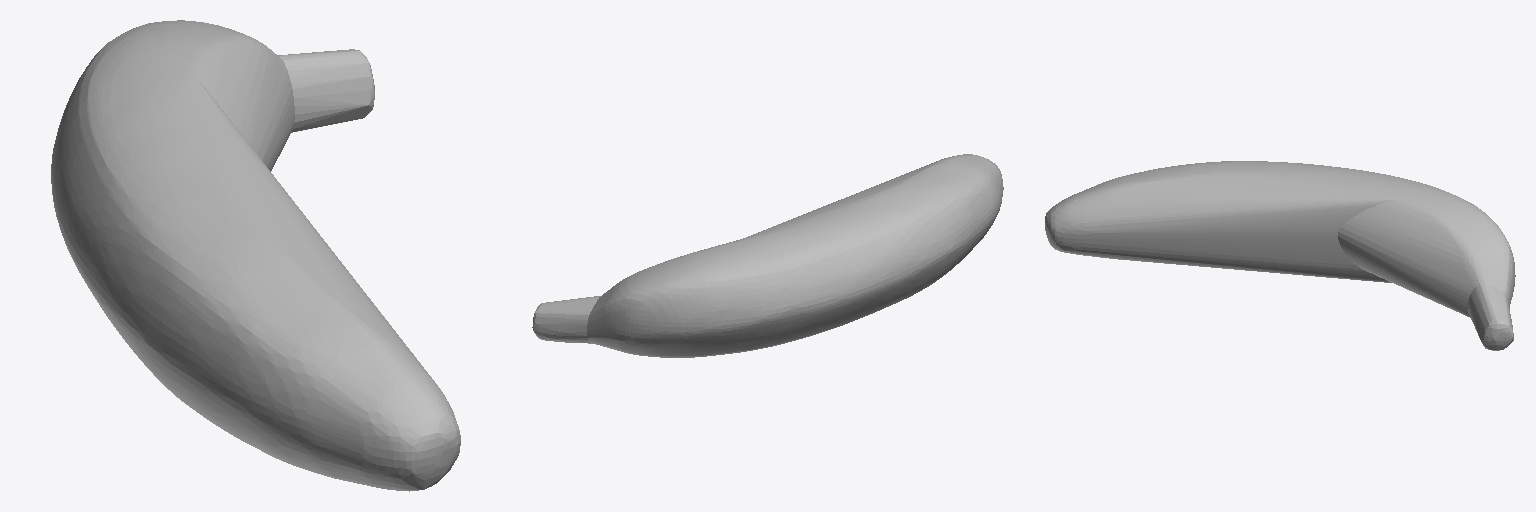
URDF robot description (root):
<robot name="root"><link name="body"><visual>
      <origin xyz="0 0 0" rpy="0 0 0" />
      <geometry>
        <mesh filename="coacd_convex_piece_0.obj" scale="1.0000E+00 1.0000E+00 1.0000E+00" />
      </geometry>
      <material name="">
        <color rgba="7.50E-01 7.50E-01 7.50E-01 1" />
      </material>
    </visual>
    <collision>
      <origin xyz="0 0 0" rpy="0 0 0" />
      <geometry>
        <mesh filename="coacd_convex_piece_0.obj" scale="1.0000E+00 1.0000E+00 1.0000E+00" />
      </geometry>
    </collision>
  <visual>
      <origin xyz="0 0 0" rpy="0 0 0" />
      <geometry>
        <mesh filename="coacd_convex_piece_1.obj" scale="1.0000E+00 1.0000E+00 1.0000E+00" />
      </geometry>
      <material name="">
        <color rgba="7.50E-01 7.50E-01 7.50E-01 1" />
      </material>
    </visual>
    <collision>
      <origin xyz="0 0 0" rpy="0 0 0" />
      <geometry>
        <mesh filename="coacd_convex_piece_1.obj" scale="1.0000E+00 1.0000E+00 1.0000E+00" />
      </geometry>
    </collision>
  <visual>
      <origin xyz="0 0 0" rpy="0 0 0" />
      <geometry>
        <mesh filename="coacd_convex_piece_2.obj" scale="1.0000E+00 1.0000E+00 1.0000E+00" />
      </geometry>
      <material name="">
        <color rgba="7.50E-01 7.50E-01 7.50E-01 1" />
      </material>
    </visual>
    <collision>
      <origin xyz="0 0 0" rpy="0 0 0" />
      <geometry>
        <mesh filename="coacd_convex_piece_2.obj" scale="1.0000E+00 1.0000E+00 1.0000E+00" />
      </geometry>
    </collision>
  </link></robot>

--- What the picture shows (computed from the rendered views, not written in the file) ---
The picture shows the robot from 3 angles, left to right: view 1: azimuth 30°, elevation 25°; view 2: azimuth 150°, elevation 25°; view 3: azimuth 270°, elevation 25°; orthographic projection.
Robot: root — 1 links, 0 joints (none); root link body; default pose: all joints at 0.
Visible links, largest first — view 1: body; view 2: body; view 3: body.
Boxes of the visible links, <box> form: body: <box>51,20,460,491</box>; body: <box>532,154,1003,357</box>; body: <box>1045,161,1515,350</box>.
Size in the robot's own frame: 1.03 by 1.68 by 0.3592 metres.
Meshes: 3 distinct files referenced, 3 mesh visuals loaded (3 OBJ).